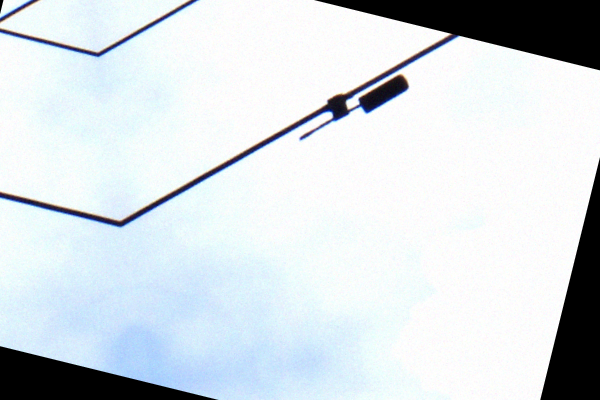damper_defect: (296, 71, 410, 142)
